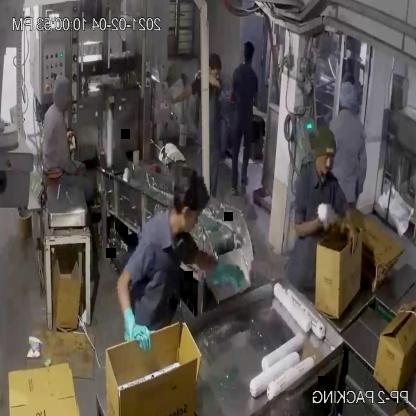glove: (191, 242, 257, 296), (116, 301, 154, 363)
no_glove: (292, 192, 337, 242), (331, 189, 361, 258), (152, 76, 197, 110)
